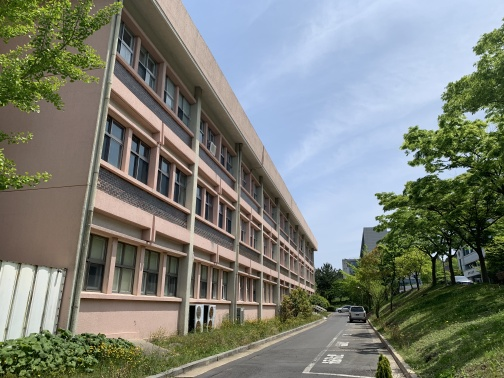College Of Education: (18, 26, 319, 369)
